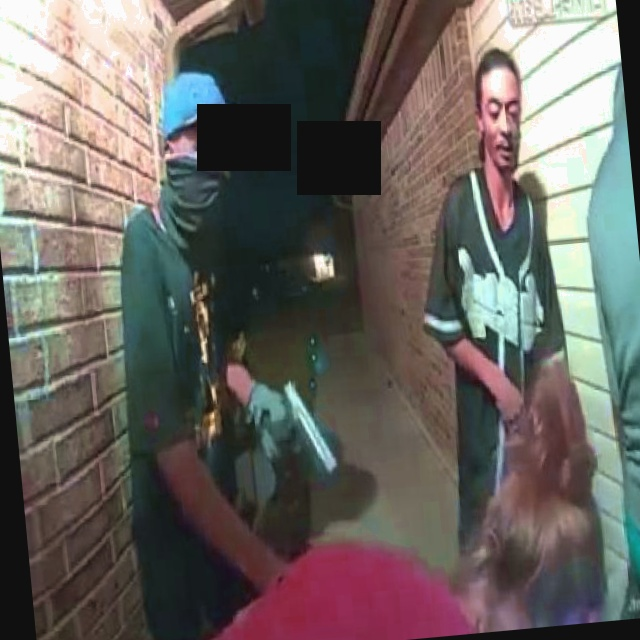gun: (252, 363, 349, 505)
